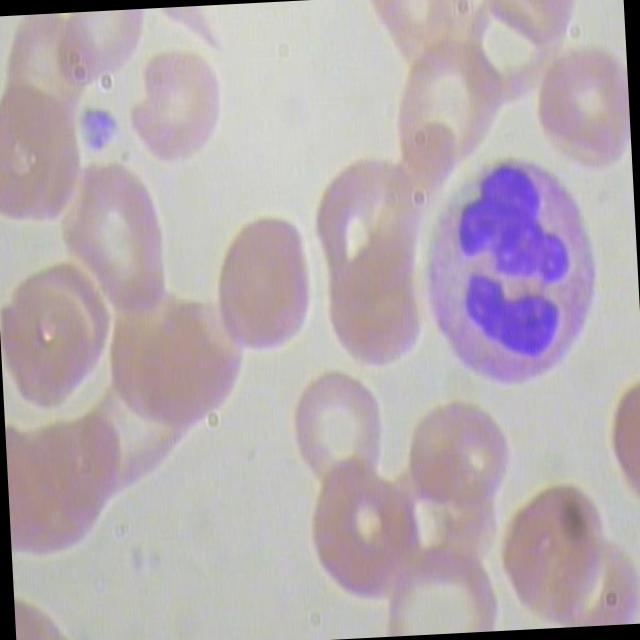Platelets: (73, 98, 123, 154)
RBC: (38, 154, 178, 330), (492, 474, 618, 630), (0, 257, 119, 420), (382, 39, 504, 191), (304, 462, 426, 614), (210, 200, 320, 362), (122, 42, 235, 182), (522, 34, 632, 177), (400, 397, 516, 528), (282, 366, 389, 504), (0, 84, 84, 234)
WBC: (403, 152, 616, 400)
